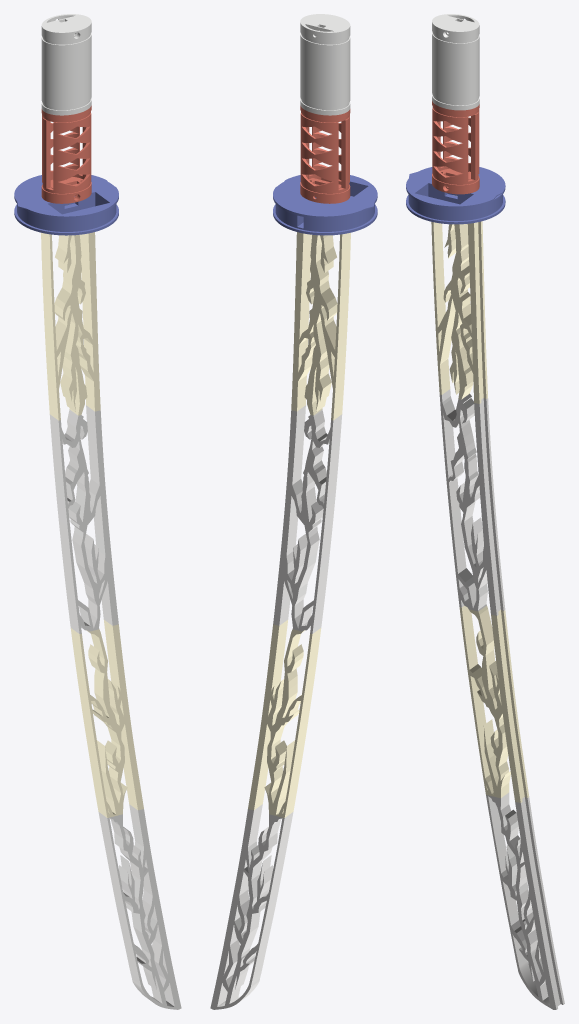
File: sword.gltf
3 renders of one model, left to right at view 1: azimuth 30°, elevation 25°; view 2: azimuth 150°, elevation 25°; view 3: azimuth 330°, elevation 25°, orthographic. The views are drawn at different scales.
Parts seen in each view (by area): view 1: sword_for_3db2 v5 (×4), battery, guard, top, bottom (2), bottom (1); view 2: sword_for_3db2 v5 (×4), bottom (1), guard, bottom (2), top, battery; view 3: sword_for_3db2 v5 (×4), battery, guard, top, bottom (2), bottom (1).
Boxes of the visible parts, x1,y1,x2,y2 form: sword_for_3db2 v5 (×4): [41, 204, 181, 1009]; battery: [44, 18, 91, 115]; guard: [14, 175, 118, 235]; top: [44, 105, 91, 203]; bottom (2): [41, 109, 85, 199]; bottom (1): [41, 14, 88, 111]; sword_for_3db2 v5 (×4): [210, 232, 350, 1009]; bottom (1): [300, 18, 347, 115]; guard: [273, 175, 377, 235]; bottom (2): [300, 105, 347, 203]; top: [308, 109, 350, 199]; battery: [303, 14, 350, 110]; sword_for_3db2 v5 (×4): [431, 195, 564, 1009]; battery: [432, 17, 477, 110]; guard: [406, 167, 505, 224]; top: [432, 101, 477, 194]; bottom (2): [437, 104, 479, 190]; bottom (1): [434, 14, 479, 106].
Size of the model in its own units: 17.54 by 106 by 9.99.
